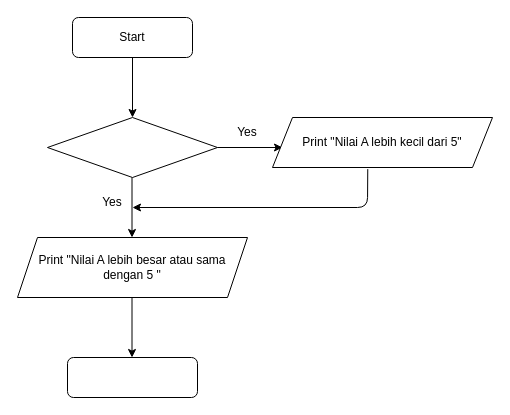
The diagram is 510 pixels wide and 415 high, and some of its shapes have lost their labels. Each missing label, with the centre of its shape:
"a < 5" goes at point 132,147.
"Finish" goes at point 132,377.
